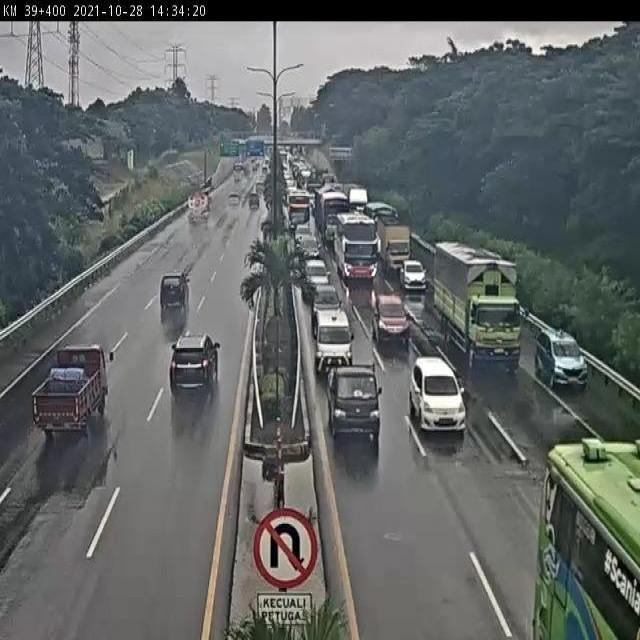big bus: (340, 215, 383, 284), (320, 190, 353, 242), (285, 191, 313, 232)
car: (324, 362, 384, 438), (411, 356, 468, 433), (532, 326, 588, 390), (168, 335, 221, 393), (367, 289, 411, 343), (313, 304, 350, 357), (303, 251, 330, 300), (159, 272, 189, 313), (399, 252, 428, 291), (341, 250, 367, 278), (311, 282, 341, 306), (297, 238, 318, 266), (292, 220, 309, 240)
small truck: (30, 347, 117, 442), (377, 214, 417, 278)
truck-l-: (431, 239, 520, 365)
